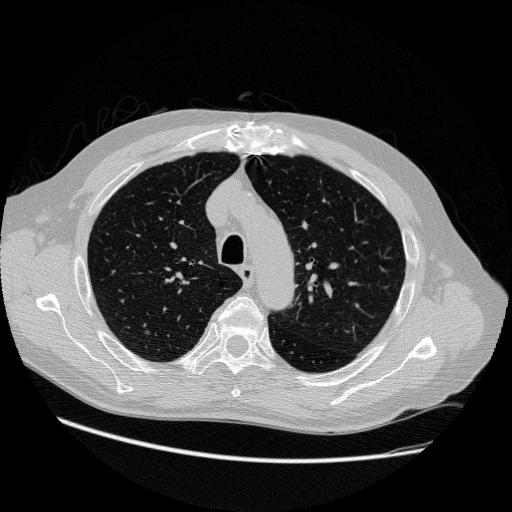nodule: (142, 326, 154, 338)
